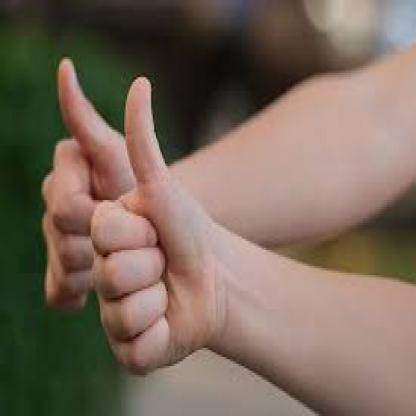thumb_up: (92, 78, 224, 376)
